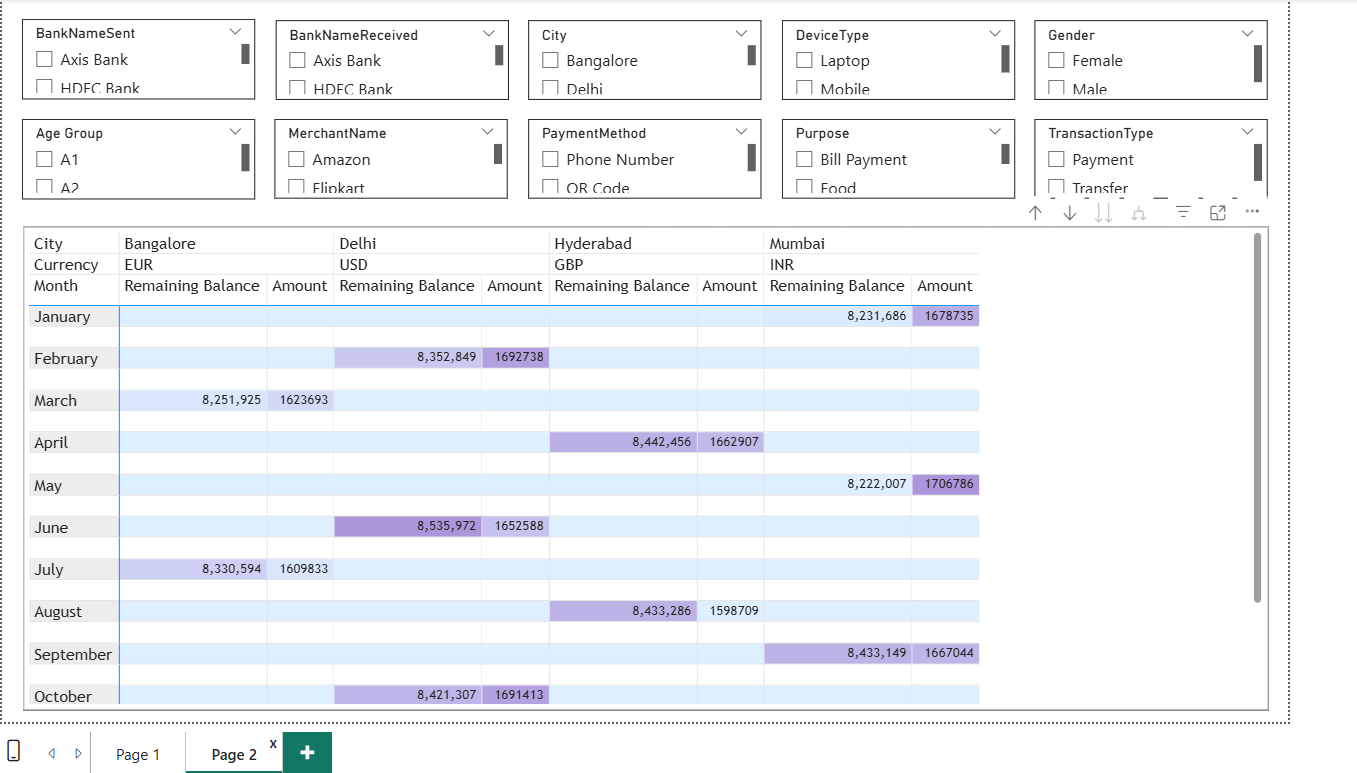

Layout of this report page (visuals, bound fields, positions):
{"tool":"powerbi","page":{"name":"Page 2","canvas":[1280,720],"ordinal":1},"visuals":[{"type":"slicer","fields":{"Values":["Sheet1.BankNameSent"]},"box":[20,20,232,80],"z":0},{"type":"slicer","fields":{"Values":["Sheet1.BankNameReceived"]},"box":[272,20.6,231.9,79.6],"z":1000},{"type":"slicer","fields":{"Values":["Sheet1.City"]},"box":[524,20.6,231.9,79.6],"z":2000},{"type":"slicer","fields":{"Values":["Sheet1.DeviceType"]},"box":[776,20.6,231.9,79.6],"z":3000},{"type":"slicer","fields":{"Values":["Sheet1.Gender"]},"box":[1028,20.6,231.9,79.6],"z":4000},{"type":"slicer","fields":{"Values":["Sheet1.Age Group"]},"box":[20,120,232,80],"z":5000},{"type":"slicer","fields":{"Values":["Sheet1.MerchantName"]},"box":[271.7,119.4,231.9,79.6],"z":6000},{"type":"slicer","fields":{"Values":["Sheet1.PaymentMethod"]},"box":[524.2,119.4,231.9,79.6],"z":7000},{"type":"slicer","fields":{"Values":["Sheet1.Purpose"]},"box":[776.7,119.4,231.9,79.6],"z":8000},{"type":"slicer","fields":{"Values":["Sheet1.TransactionType"]},"box":[1027.8,119.4,231.9,79.6],"z":9000},{"type":"pivotTable","fields":{"Values":["Sum(Sheet1.RemainingBalance)","Sum(Sheet1.Amount)"],"Rows":["Sheet1.TransactionDate.Variation.Date Hierarchy.Month"],"Columns":["Sheet1.City","Sheet1.Currency"]},"box":[21.1,226.4,1239,481.4],"z":10000}]}

Visuals, with their boxes on the page's 1280x720 design canvas (x1, y1, x2, y2). These are canvas units, not pixel positions in the 1357x773 screenshot, which may show the page scaled, cropped or inside an application window:
slicer - Sheet1.BankNameSent: region(20, 20, 252, 100)
slicer - Sheet1.BankNameReceived: region(272, 21, 504, 100)
slicer - Sheet1.City: region(524, 21, 756, 100)
slicer - Sheet1.DeviceType: region(776, 21, 1008, 100)
slicer - Sheet1.Gender: region(1028, 21, 1260, 100)
slicer - Sheet1.Age Group: region(20, 120, 252, 200)
slicer - Sheet1.MerchantName: region(272, 119, 504, 199)
slicer - Sheet1.PaymentMethod: region(524, 119, 756, 199)
slicer - Sheet1.Purpose: region(777, 119, 1009, 199)
slicer - Sheet1.TransactionType: region(1028, 119, 1260, 199)
pivotTable - Sum(Sheet1.RemainingBalance) x Sum(Sheet1.Amount): region(21, 226, 1260, 708)
